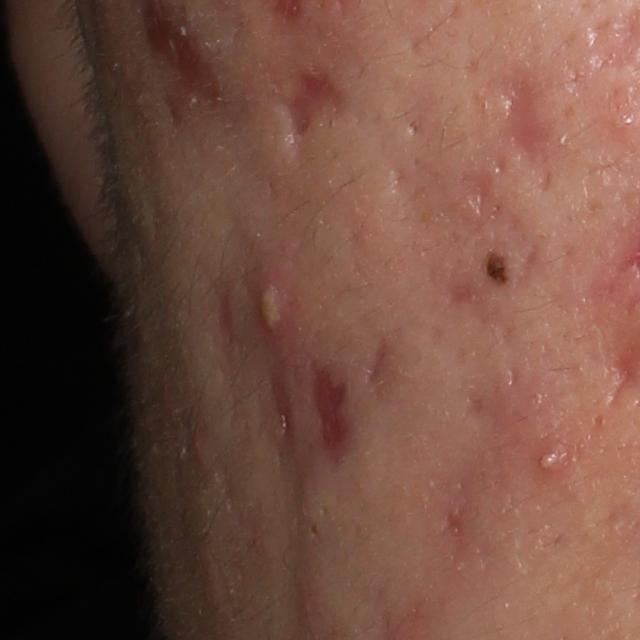atrophic_scar: (277, 64, 345, 160), (492, 80, 549, 173), (310, 361, 359, 467), (209, 279, 244, 381), (435, 488, 480, 547), (260, 376, 295, 450), (462, 171, 498, 219), (361, 339, 392, 387)
nevus: (473, 246, 516, 289)
pustule: (254, 278, 289, 340), (536, 446, 570, 472)
